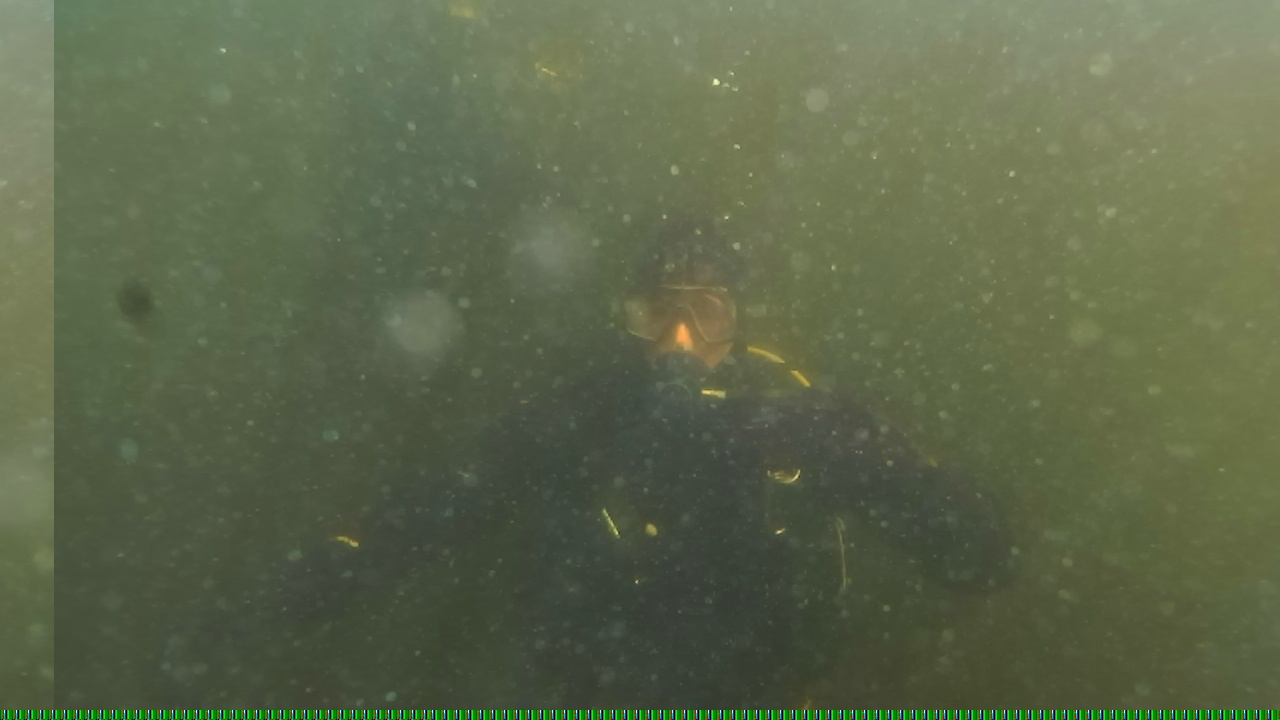Diver: (302, 190, 1016, 708)
Head: (618, 220, 768, 422)
